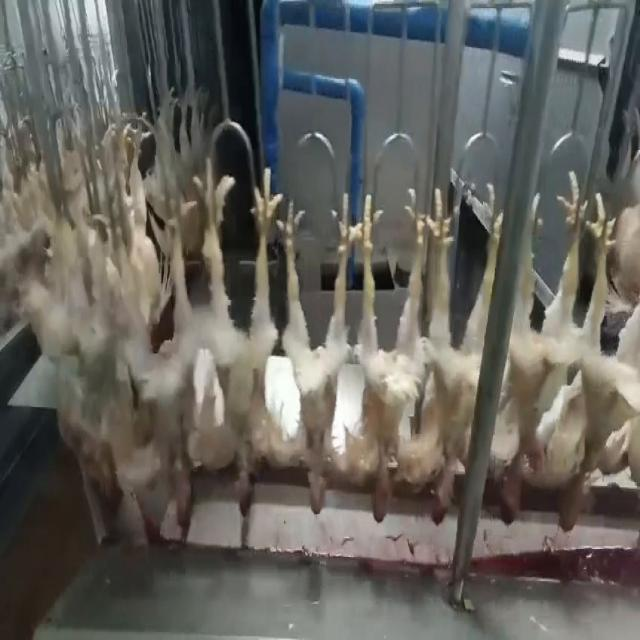chicken: (104, 157, 195, 538), (492, 170, 584, 530), (406, 188, 501, 529), (194, 158, 280, 517), (342, 186, 429, 527), (278, 193, 355, 515), (568, 190, 636, 534)
